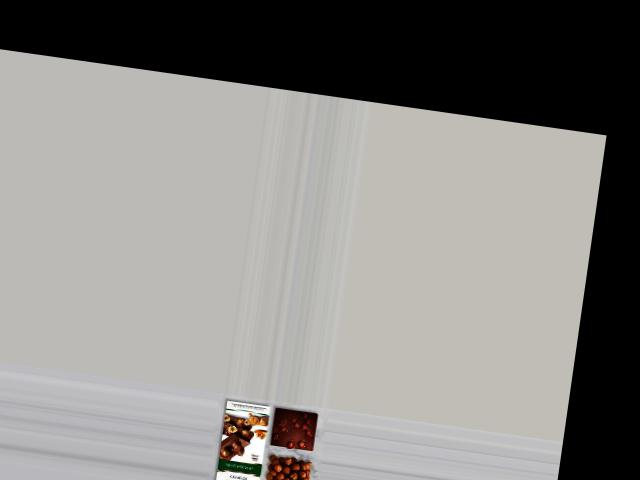chocolate: (268, 405, 323, 452)
